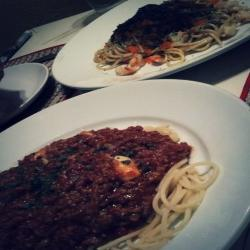bolonese_pasta: (9, 126, 211, 250), (99, 1, 250, 82)
